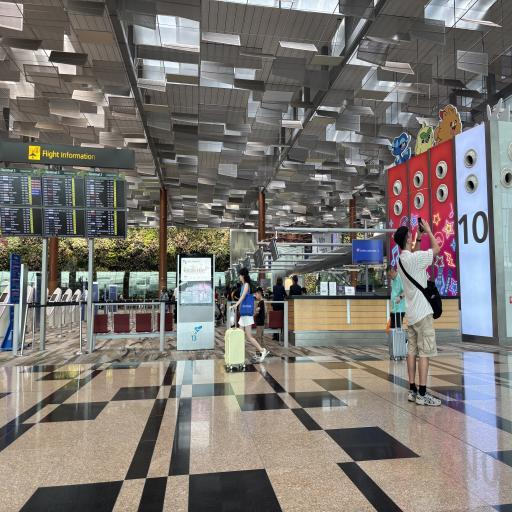person_with_luggage_left: (218, 260, 260, 376), (376, 260, 412, 360)
